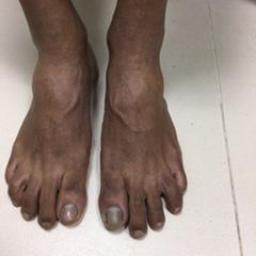Dorsal View -Both Feet-: (3, 13, 192, 244)
